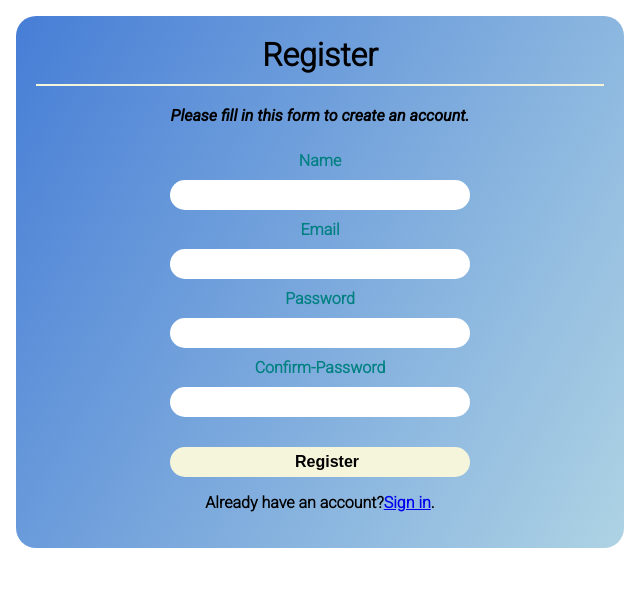
Test: Test Register component › Register form inputs errors › should show invalid email error!
Type "Koko" into the field with test id "email".
click(320, 264); type("Koko")  # box [170,249,470,279]
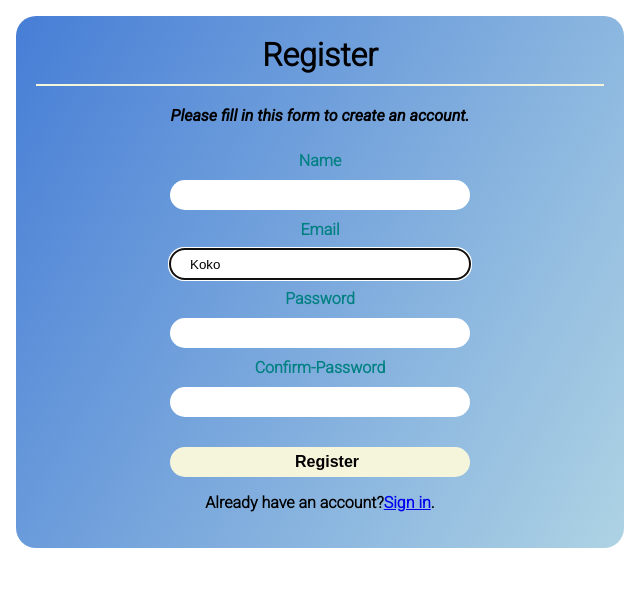
Press Tab
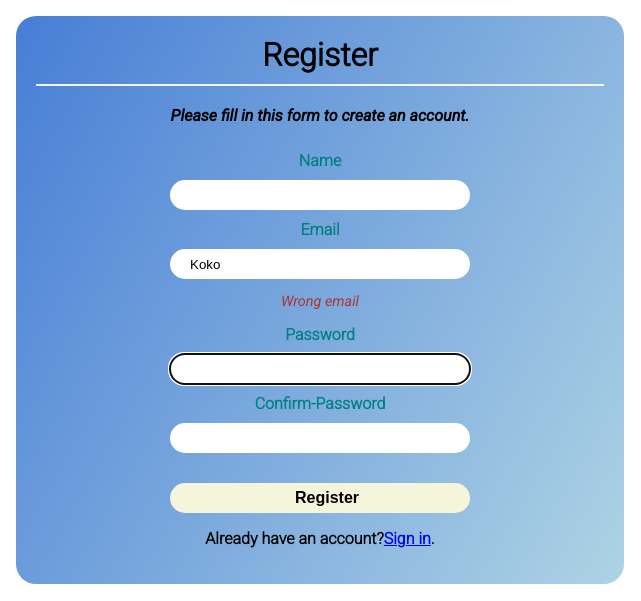
Now the text "Wrong email" is shown, box [281,293,359,310]
